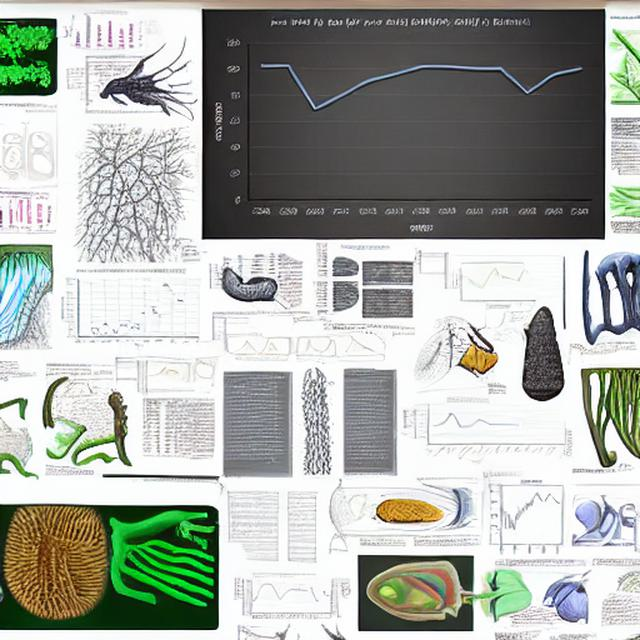Graph: (209, 9, 605, 239), (55, 264, 207, 355), (412, 398, 524, 465), (490, 478, 565, 556), (452, 259, 537, 310), (241, 571, 322, 623), (63, 10, 138, 52), (289, 335, 341, 366)
